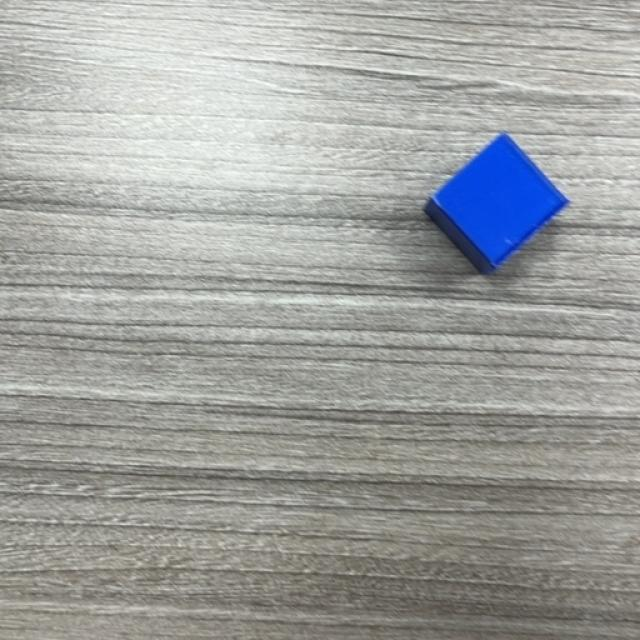Azul: (422, 134, 571, 276)
